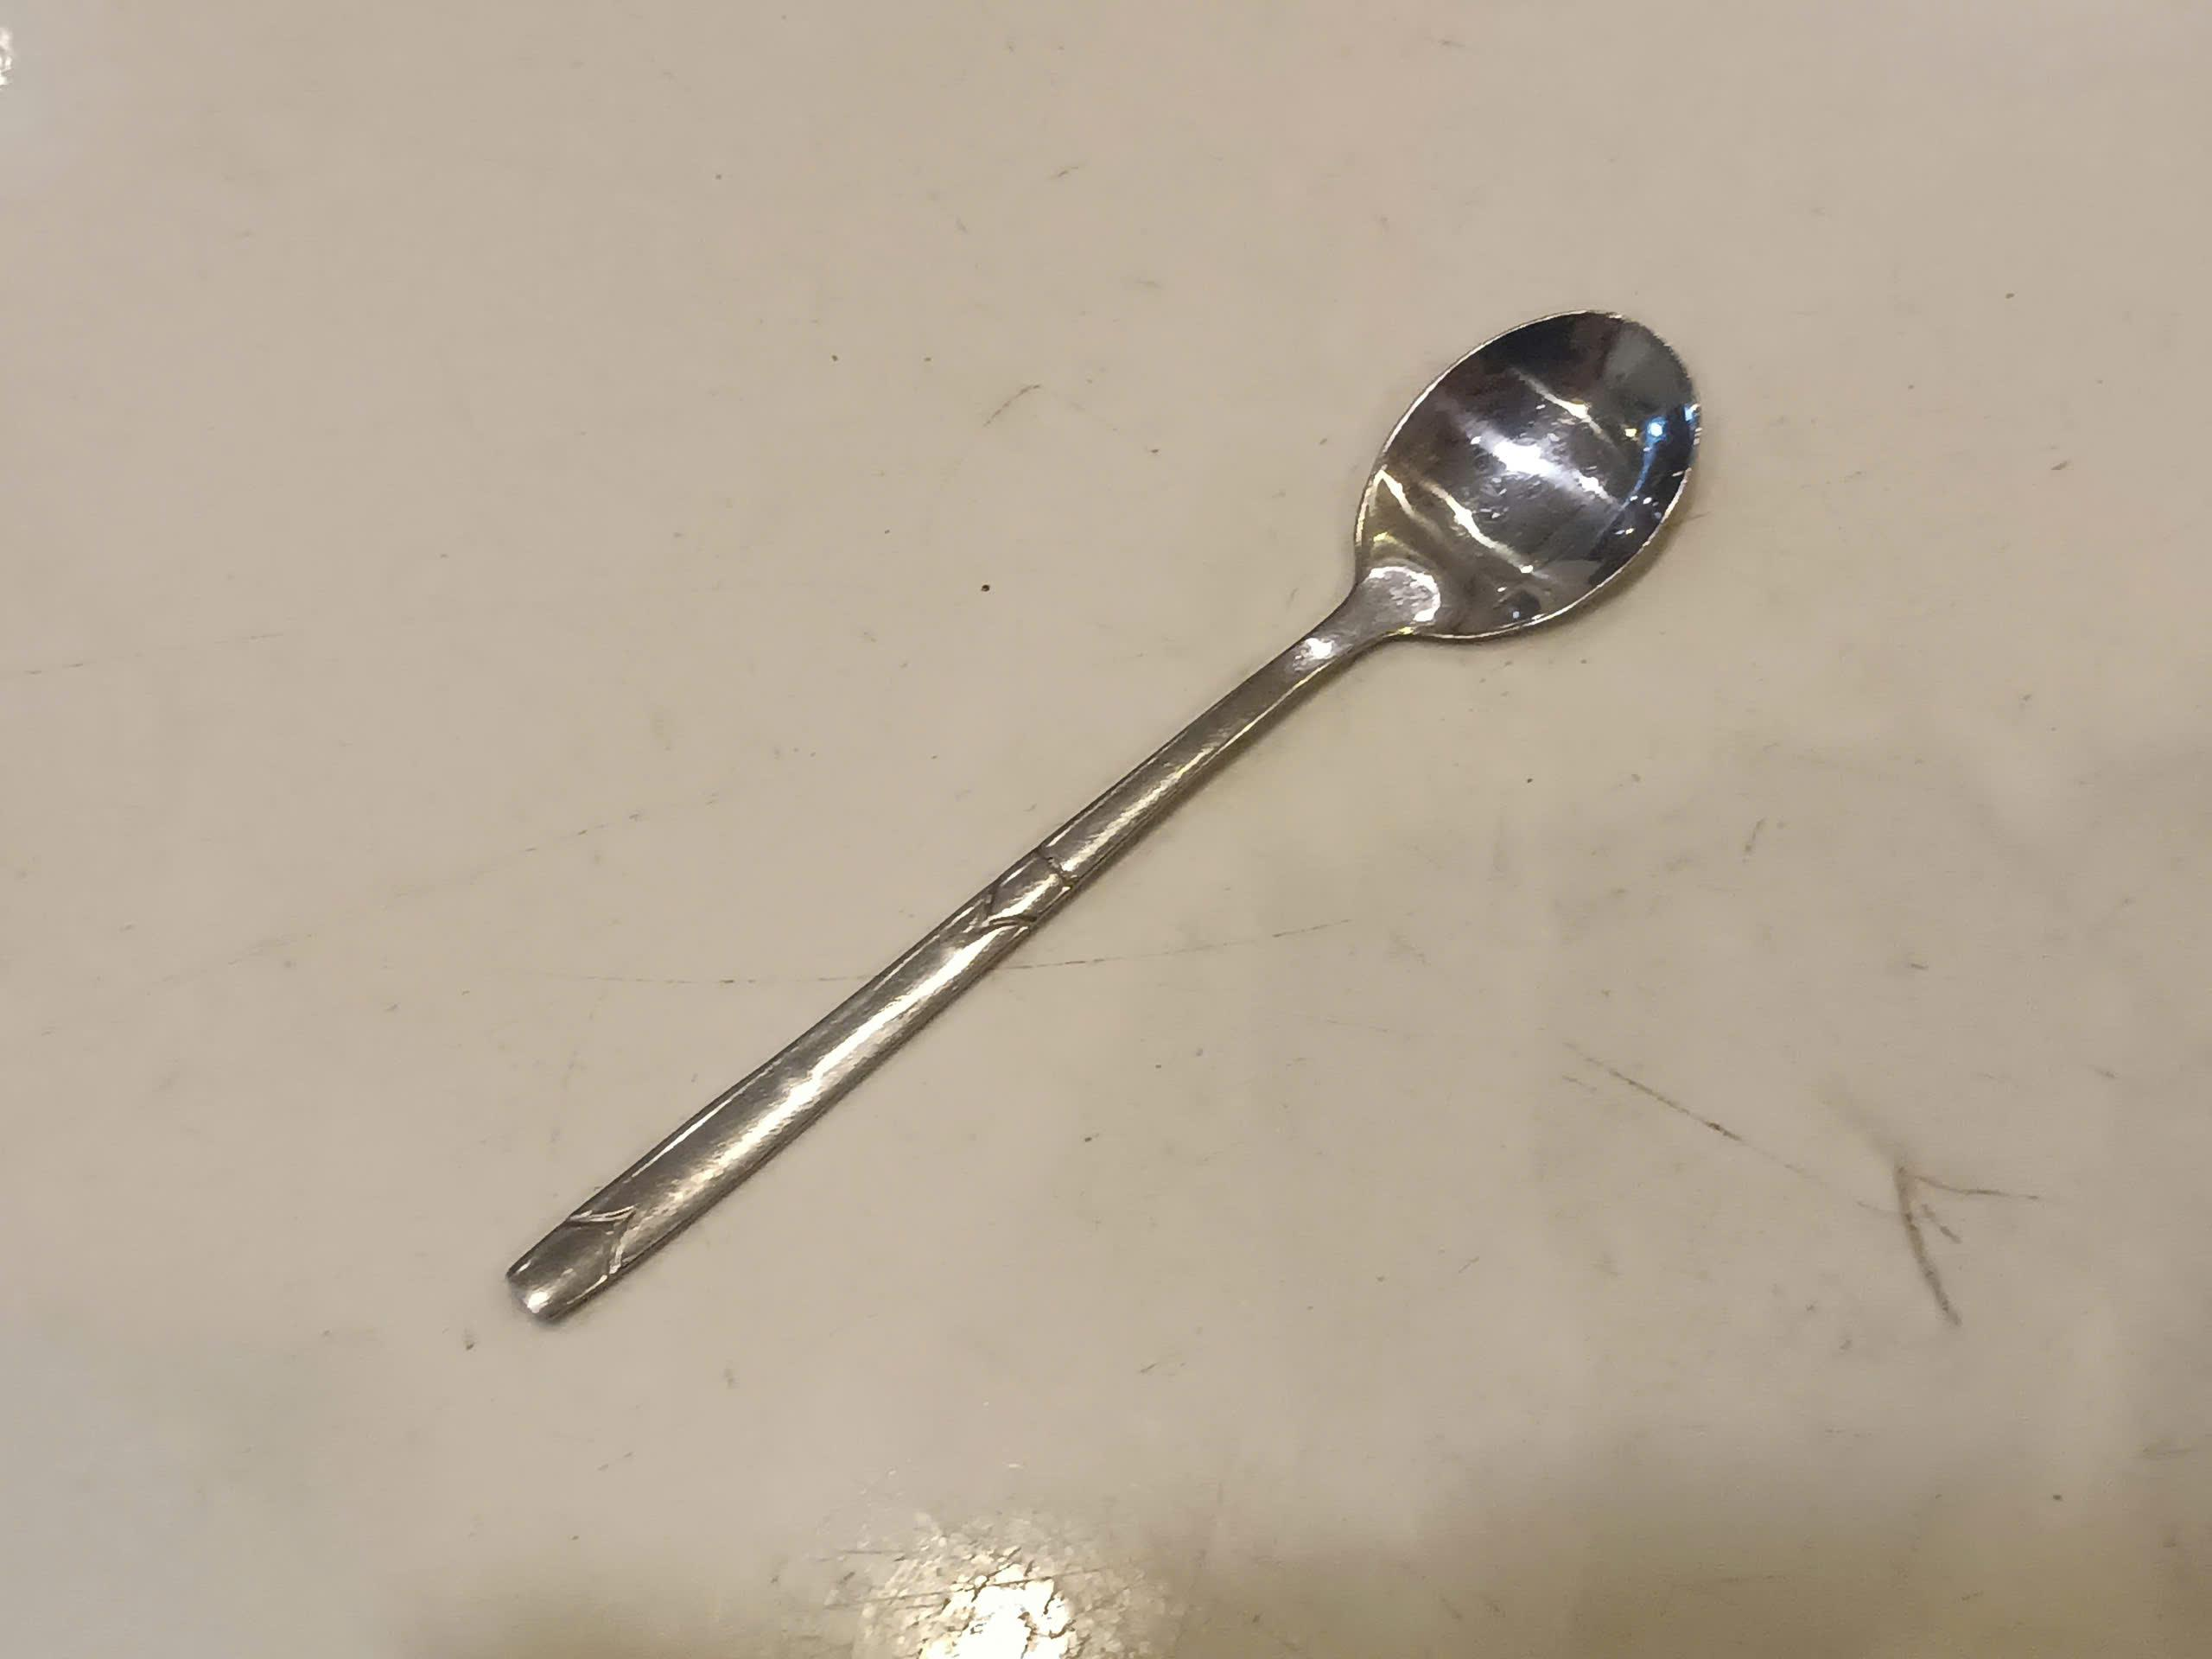Vo co: (507, 307, 1698, 1319)
